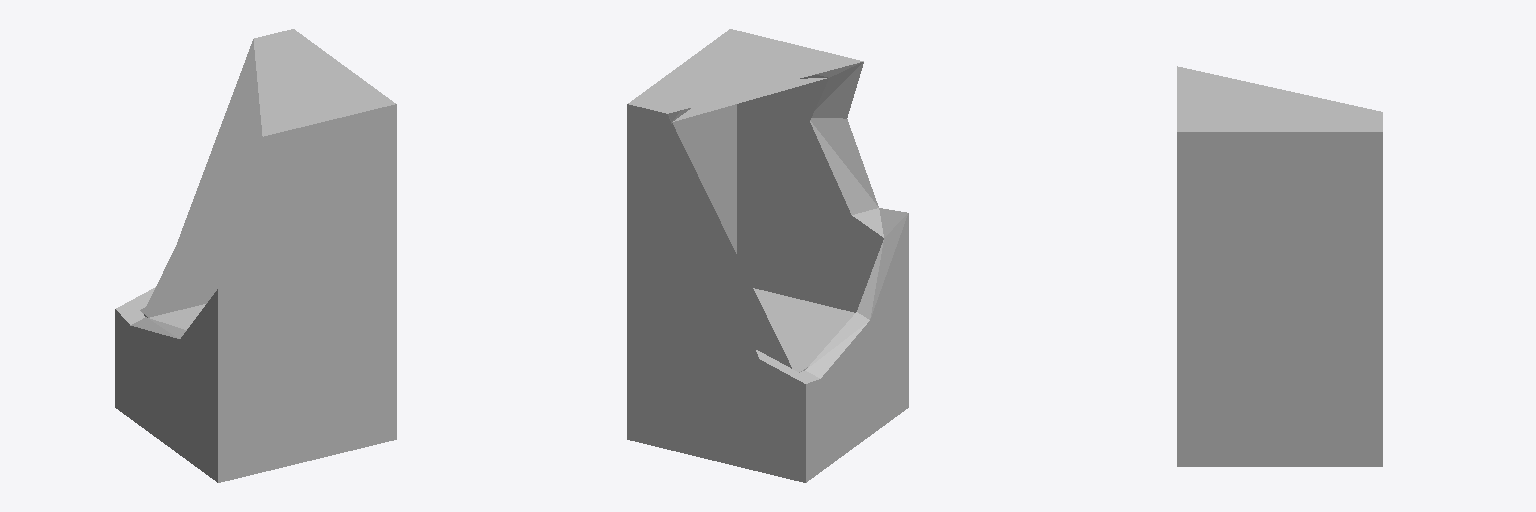
The model's file is building01.obj.
3 views of the same model, side by side, from view 1: azimuth 30°, elevation 25°; view 2: azimuth 150°, elevation 25°; view 3: azimuth 270°, elevation 25° (orthographic).
Parts seen in each view (by area): view 1: Cube.001_Cube.002; view 2: Cube.001_Cube.002; view 3: Cube.001_Cube.002.
Part boxes in pixels (x1,y1,x2,y2): Cube.001_Cube.002: (115, 29, 396, 482); Cube.001_Cube.002: (627, 29, 908, 482); Cube.001_Cube.002: (1177, 66, 1382, 466).
Size of the model in its own units: 1 by 1.8 by 1.